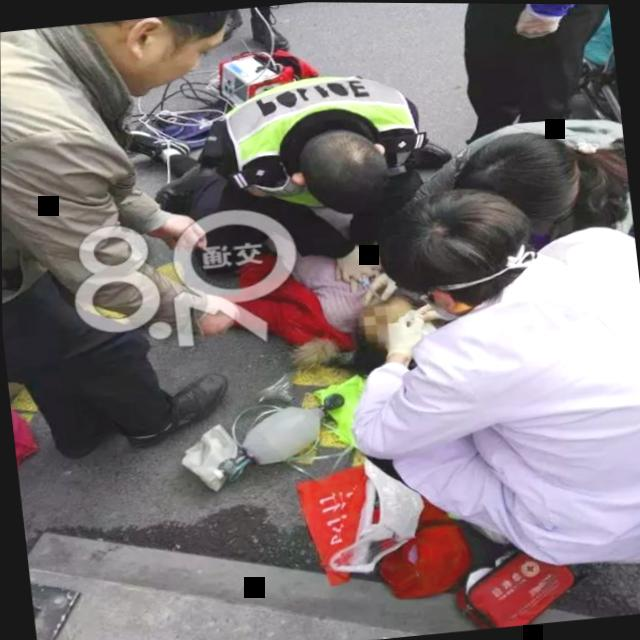Fall-Detected: (166, 179, 460, 400)
